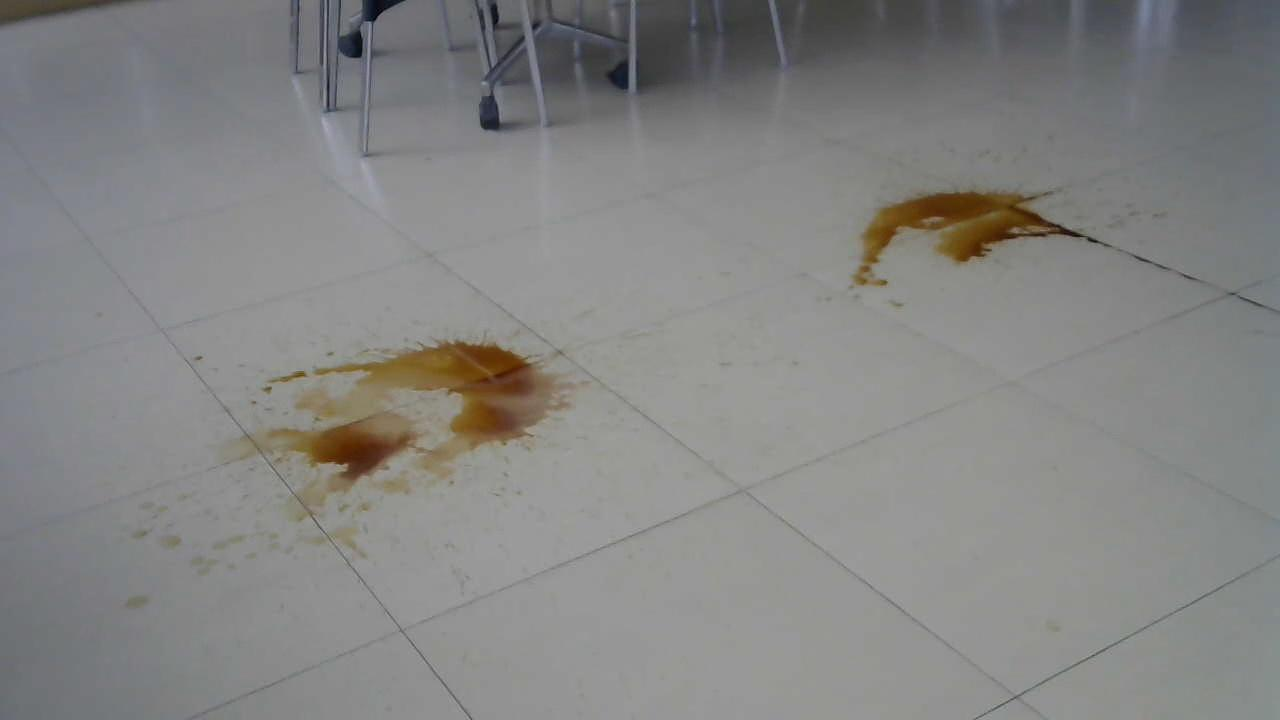dirty_floor: (255, 320, 588, 530), (844, 160, 1109, 299)
